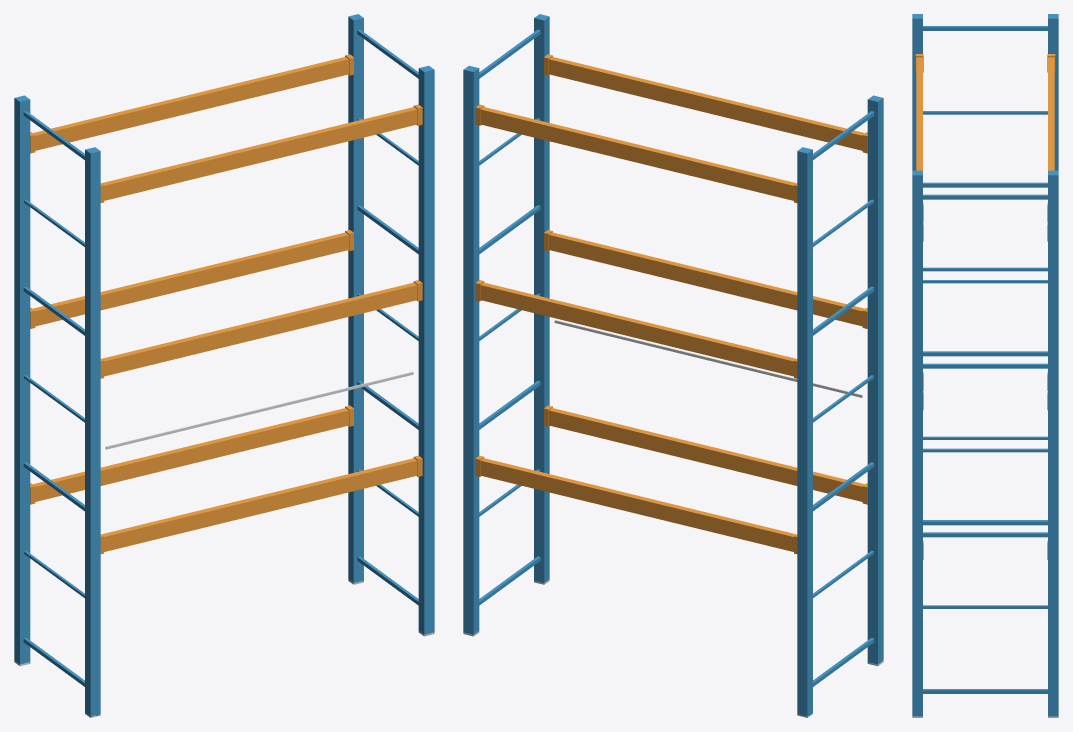
File: concept-pallet-rack-single.glb
3 renders of one model, left to right at view 1: azimuth 30°, elevation 25°; view 2: azimuth 150°, elevation 25°; view 3: azimuth 270°, elevation 25°, orthographic. The views are drawn at different scales.
Parts seen in each view (by area): view 1: Post.002, Post.001, Post, Post.003, Beam_Rear.002, Beam_Rear.001, Beam_Rear, Beam_Front.002, Beam_Front.001, Beam_Front, CrossBrace_1; view 2: Post.003, Post, Post.001, Post.002, Beam_Front.002, Beam_Front.001, Beam_Front, Beam_Rear.002, Beam_Rear.001, Beam_Rear, CrossBrace_1; view 3: Post.002, Post.003, Post, Post.001, Beam_Front.002, Beam_Rear.002, Frame_Horiz_Brace, Frame_Horiz_Brace.001, Frame_Horiz_Brace.002, Frame_Horiz_Brace.005, Frame_Horiz_Brace.006, Frame_Horiz_Brace.007 (+8 smaller).
Boxes of the visible parts, x1,y1,x2,y2 form: Post.002: [418, 65, 434, 635]; Post.001: [14, 95, 30, 664]; Post: [85, 147, 100, 717]; Post.003: [348, 14, 363, 583]; Beam_Rear.002: [101, 107, 417, 200]; Beam_Rear.001: [101, 282, 417, 376]; Beam_Rear: [101, 458, 417, 551]; Beam_Front.002: [33, 57, 348, 150]; Beam_Front.001: [33, 232, 348, 326]; Beam_Front: [33, 408, 348, 501]; CrossBrace_1: [105, 371, 413, 449]; Post.003: [463, 65, 479, 635]; Post: [867, 95, 883, 665]; Post.001: [797, 147, 812, 717]; Post.002: [534, 14, 549, 583]; Beam_Front.002: [480, 107, 796, 200]; Beam_Front.001: [480, 282, 796, 376]; Beam_Front: [480, 458, 796, 551]; Beam_Rear.002: [549, 57, 864, 150]; Beam_Rear.001: [549, 232, 864, 326]; Beam_Rear: [549, 408, 864, 501]; CrossBrace_1: [554, 320, 862, 397]; Post.002: [912, 170, 922, 716]; Post.003: [1048, 170, 1058, 716]; Post: [912, 14, 922, 170]; Post.001: [1048, 14, 1058, 170]; Beam_Front.002: [1048, 57, 1054, 170]; Beam_Rear.002: [916, 57, 922, 170]; Frame_Horiz_Brace: [923, 532, 1047, 537]; Frame_Horiz_Brace.001: [923, 363, 1047, 368]; Frame_Horiz_Brace.002: [923, 194, 1047, 199]; Frame_Horiz_Brace.005: [923, 520, 1047, 525]; Frame_Horiz_Brace.006: [923, 351, 1047, 356]; Frame_Horiz_Brace.007: [923, 182, 1047, 187].
Bounding box in the file's own units: 2.87 × 4.5 × 1.1.
